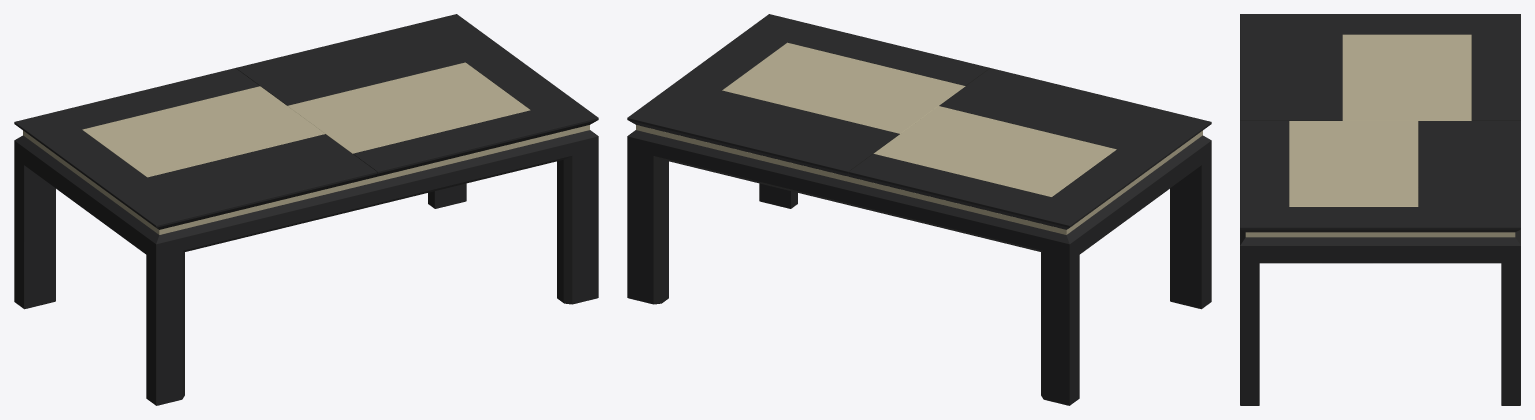
File: Table2.obj
3 renders of one model, left to right at view 1: azimuth 30°, elevation 25°; view 2: azimuth 150°, elevation 25°; view 3: azimuth 270°, elevation 25°, orthographic.
Visible parts, largest first — view 1: default_1_1, default_1_2; view 2: default_1_1, default_1_2; view 3: default_1_1, default_1_2.
Boxes of the visible parts, x1,y1,x2,y2 form: default_1_1: (14, 14, 598, 405); default_1_2: (23, 62, 589, 234); default_1_1: (627, 14, 1211, 405); default_1_2: (636, 42, 1202, 234); default_1_1: (1240, 14, 1520, 405); default_1_2: (1245, 34, 1515, 237).
Bounding box in the file's own units: 180 × 71.2 × 100.
